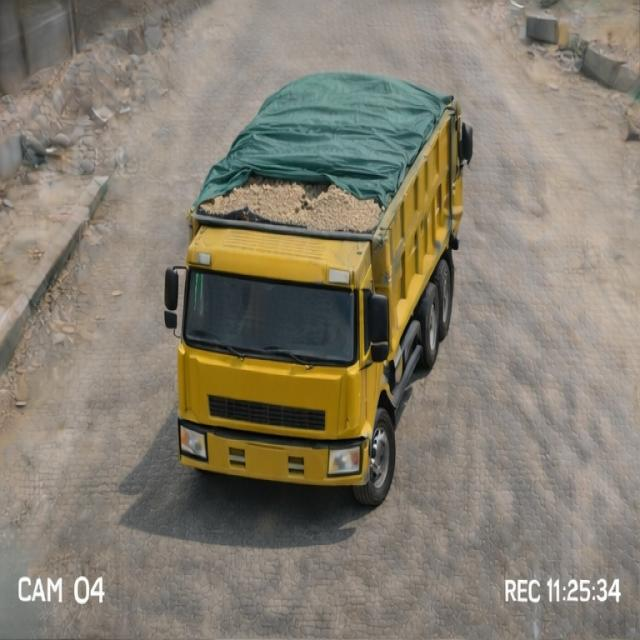Box: (197, 70, 462, 223)
Truck: (162, 47, 498, 503)
